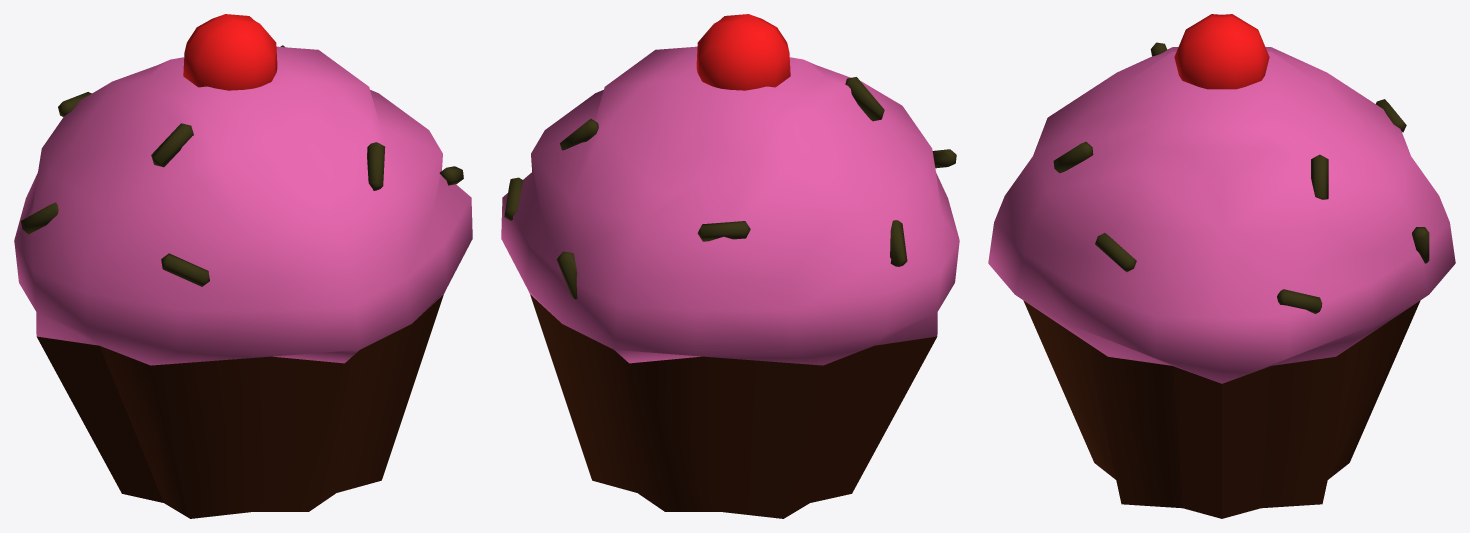
The model's file is cupcake.FBX.
3 renders of one model, left to right at view 1: azimuth 30°, elevation 25°; view 2: azimuth 150°, elevation 25°; view 3: azimuth 270°, elevation 25°, orthographic. The views are drawn at different scales.
Parts seen in each view (by area): view 1: cupcake; view 2: cupcake; view 3: cupcake.
Part boxes in pixels (x1=…): cupcake: x1=14, y1=14, x2=472, y2=518; cupcake: x1=501, y1=14, x2=959, y2=518; cupcake: x1=988, y1=14, x2=1455, y2=518.
Bounding box in the file's own units: 52.85 × 55.26 × 53.33.
